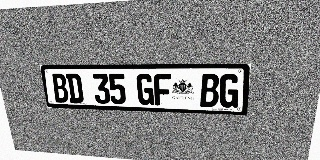3: (92, 74, 111, 104)
5: (108, 74, 126, 104)
B: (200, 74, 220, 107), (51, 73, 69, 103)
D: (66, 74, 84, 103)
F: (153, 74, 171, 106)
G: (219, 74, 240, 108), (136, 74, 154, 105)
